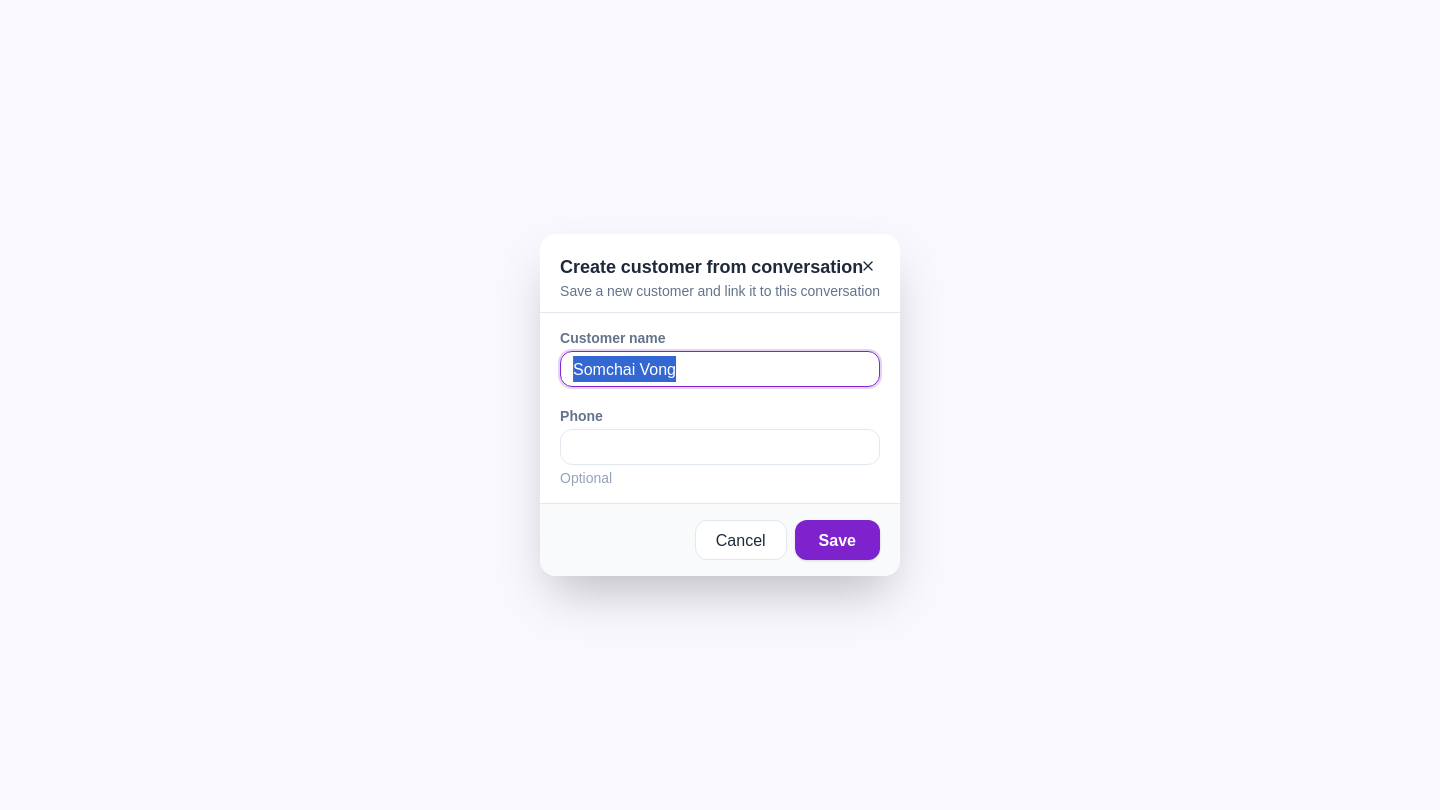
Test: CreateCustomerDialog › ຊື່ວ່າງ / ເບີໂທຜິດ: ສະແດງ error ຂອງ field ແລະ ບໍ່ສົ່ງ
Clear the field labelled "Customer name". click: (720, 369)
box: 560,351 -> 880,387
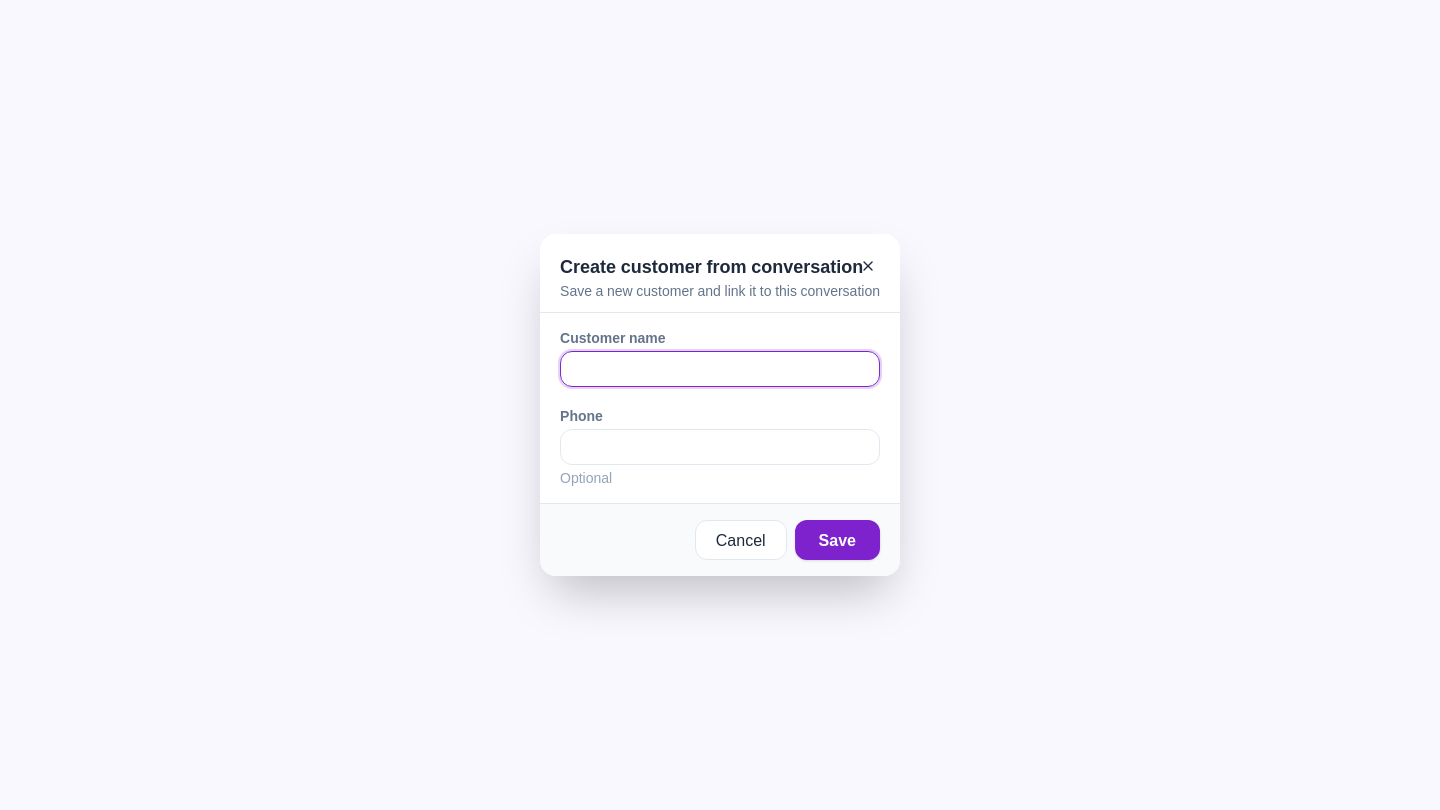
Type "12ab" into the field labelled "Phone". click: (720, 447)
box: 560,429 -> 880,465
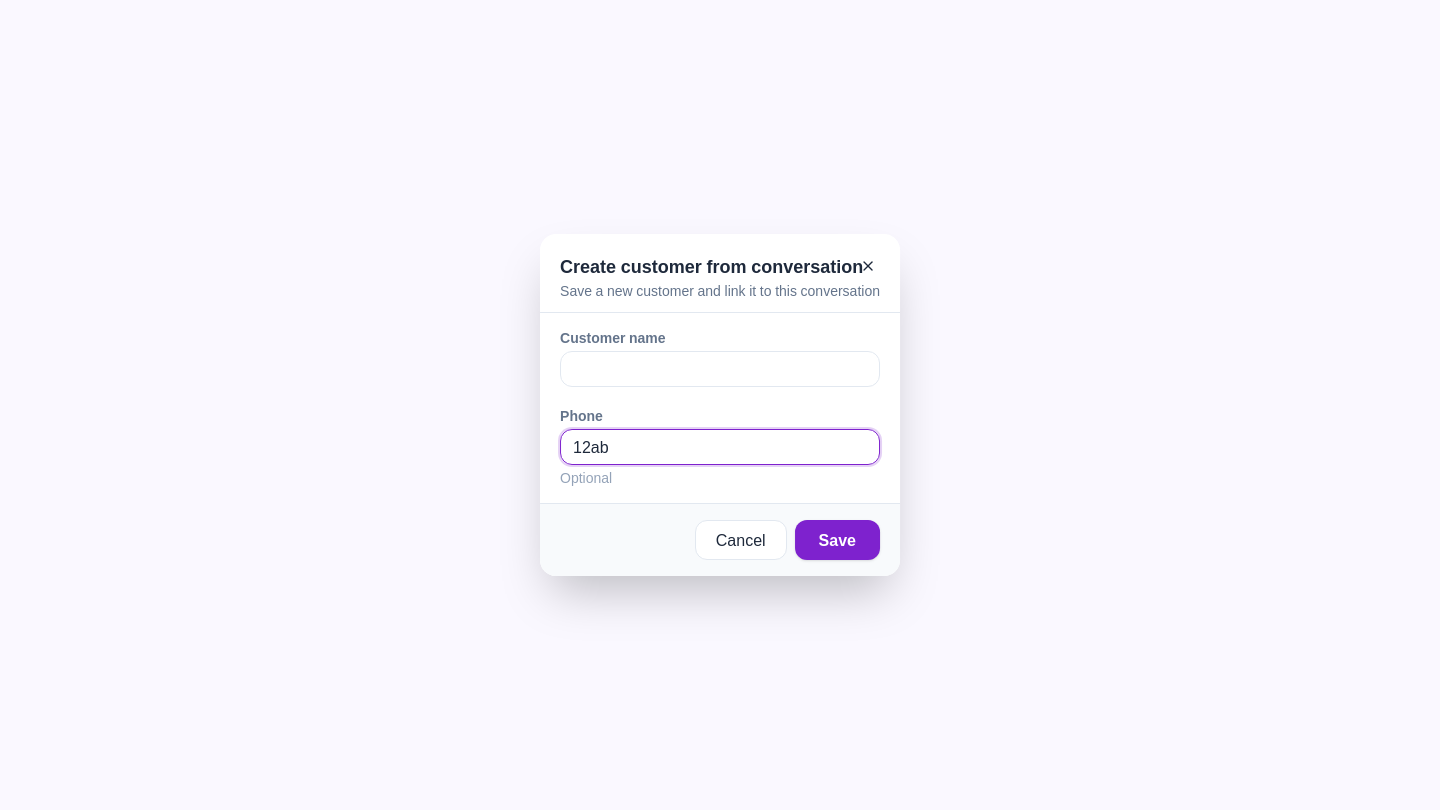
Click the button "Save". click: (837, 540)
box: 795,520 -> 880,560
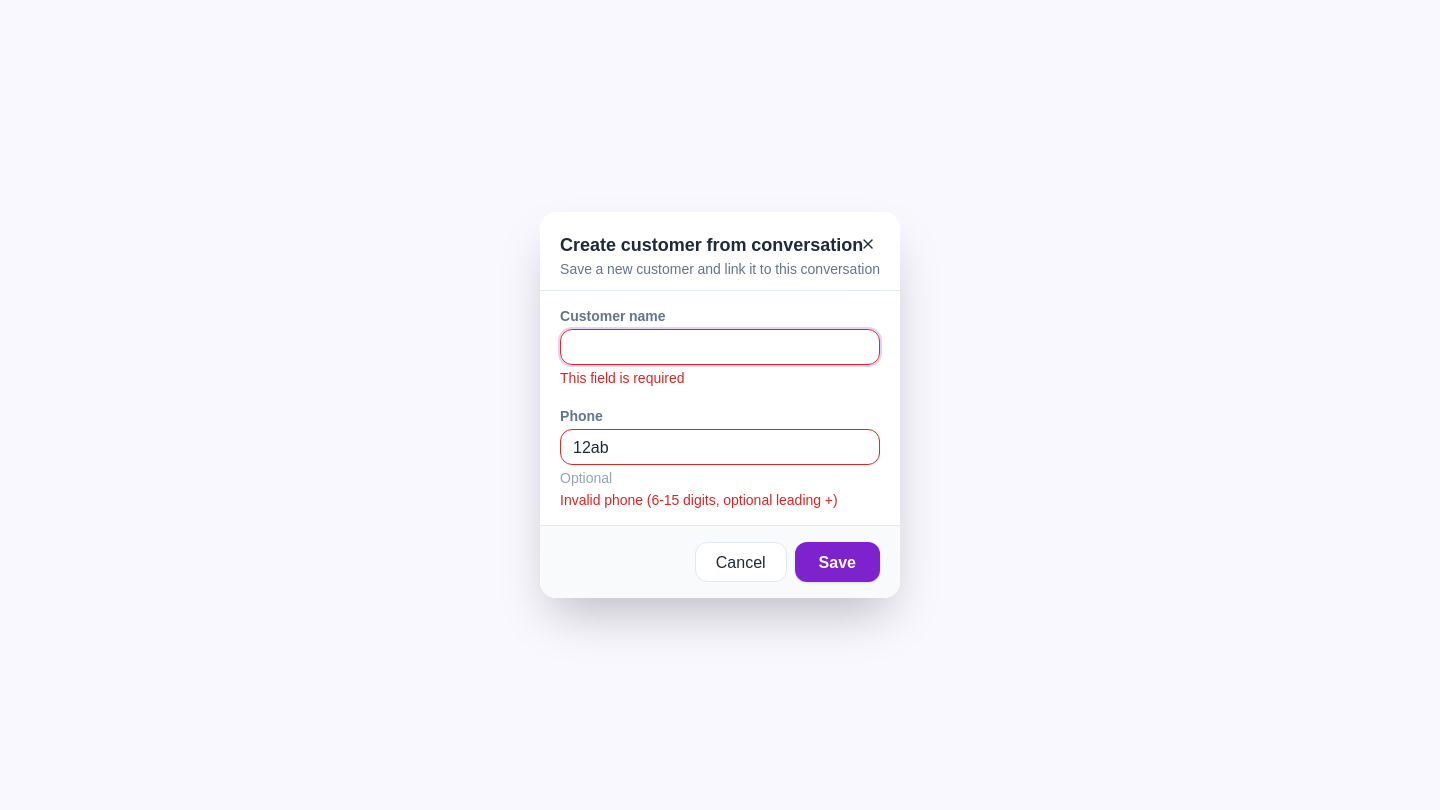
expect the text "This field is required" is shown: met, box 560,366 -> 684,389
expect the text "Invalid phone (6-15 digits, optional leading +)" is shown: met, box 560,491 -> 880,509
